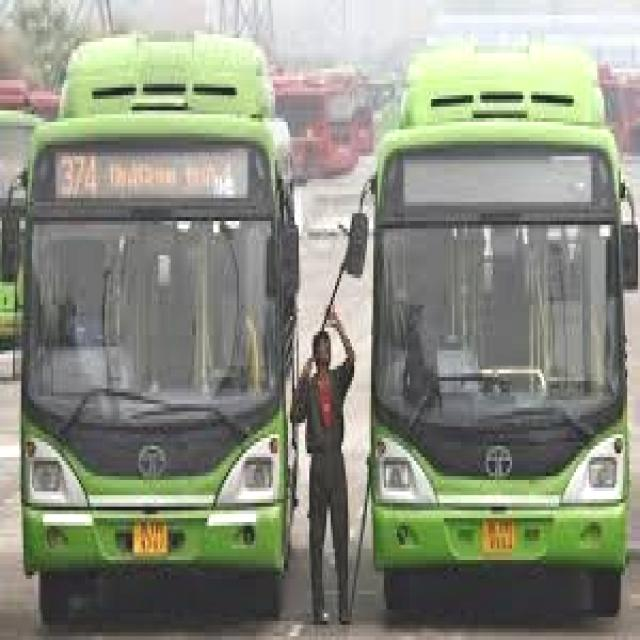bus: (353, 20, 640, 640), (12, 32, 307, 621)
